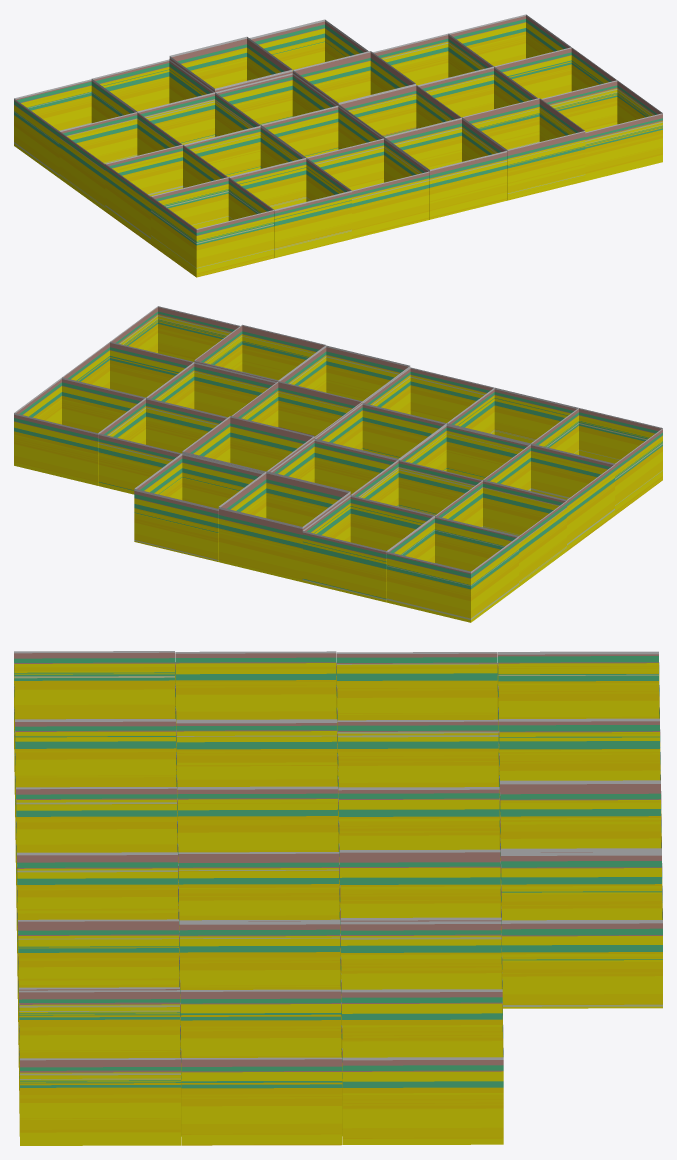
3 views of the same model, one above another, from view 1: azimuth 30°, elevation 25°; view 2: azimuth 150°, elevation 25°; view 3: azimuth 270°, elevation 25° (orthographic). The views are drawn at different scales.
Parts seen in each view (by area): view 1: mesh; view 2: mesh; view 3: mesh.
Part boxes in pixels (bbox=[...]): mesh: bbox=[14, 14, 662, 277]; mesh: bbox=[14, 306, 662, 622]; mesh: bbox=[14, 651, 662, 1145].
Size of what is drawn, in the model's own units: 983 by 103 by 658.
